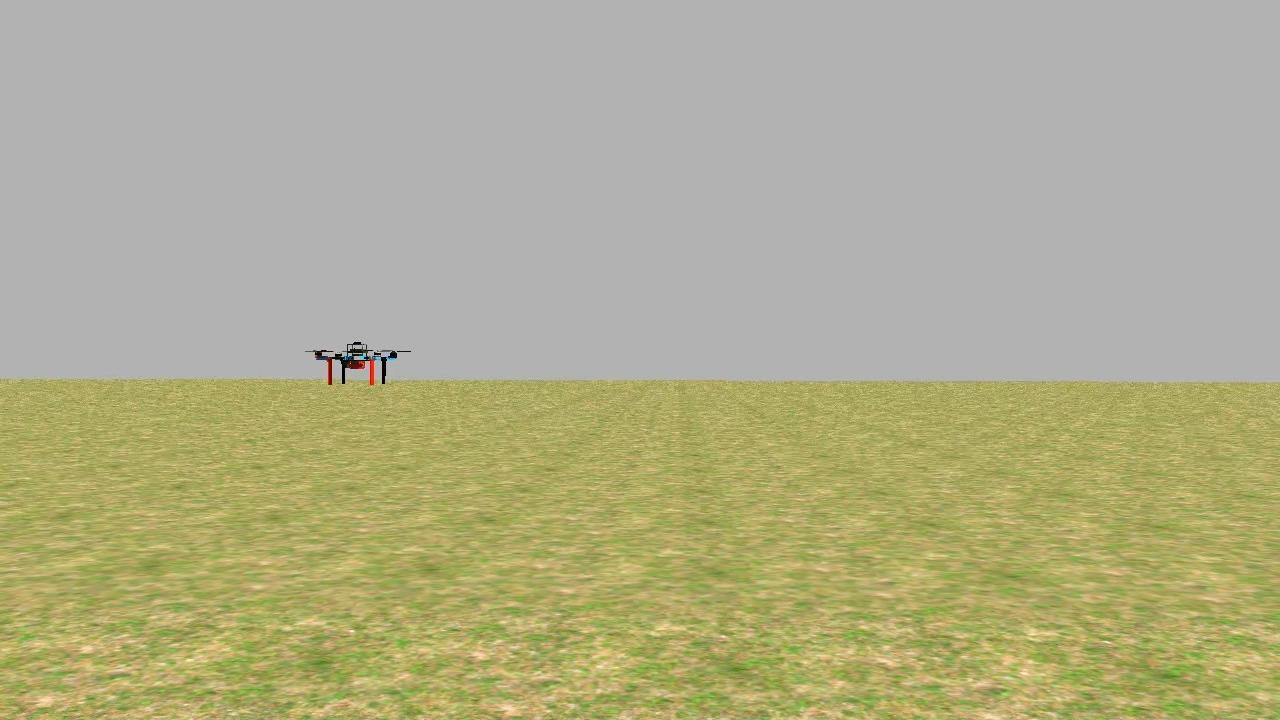UAV: (309, 334, 401, 395)
